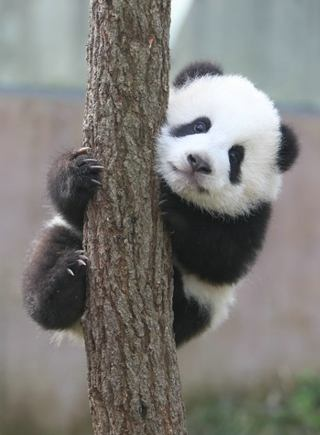panda: (29, 53, 296, 374)
